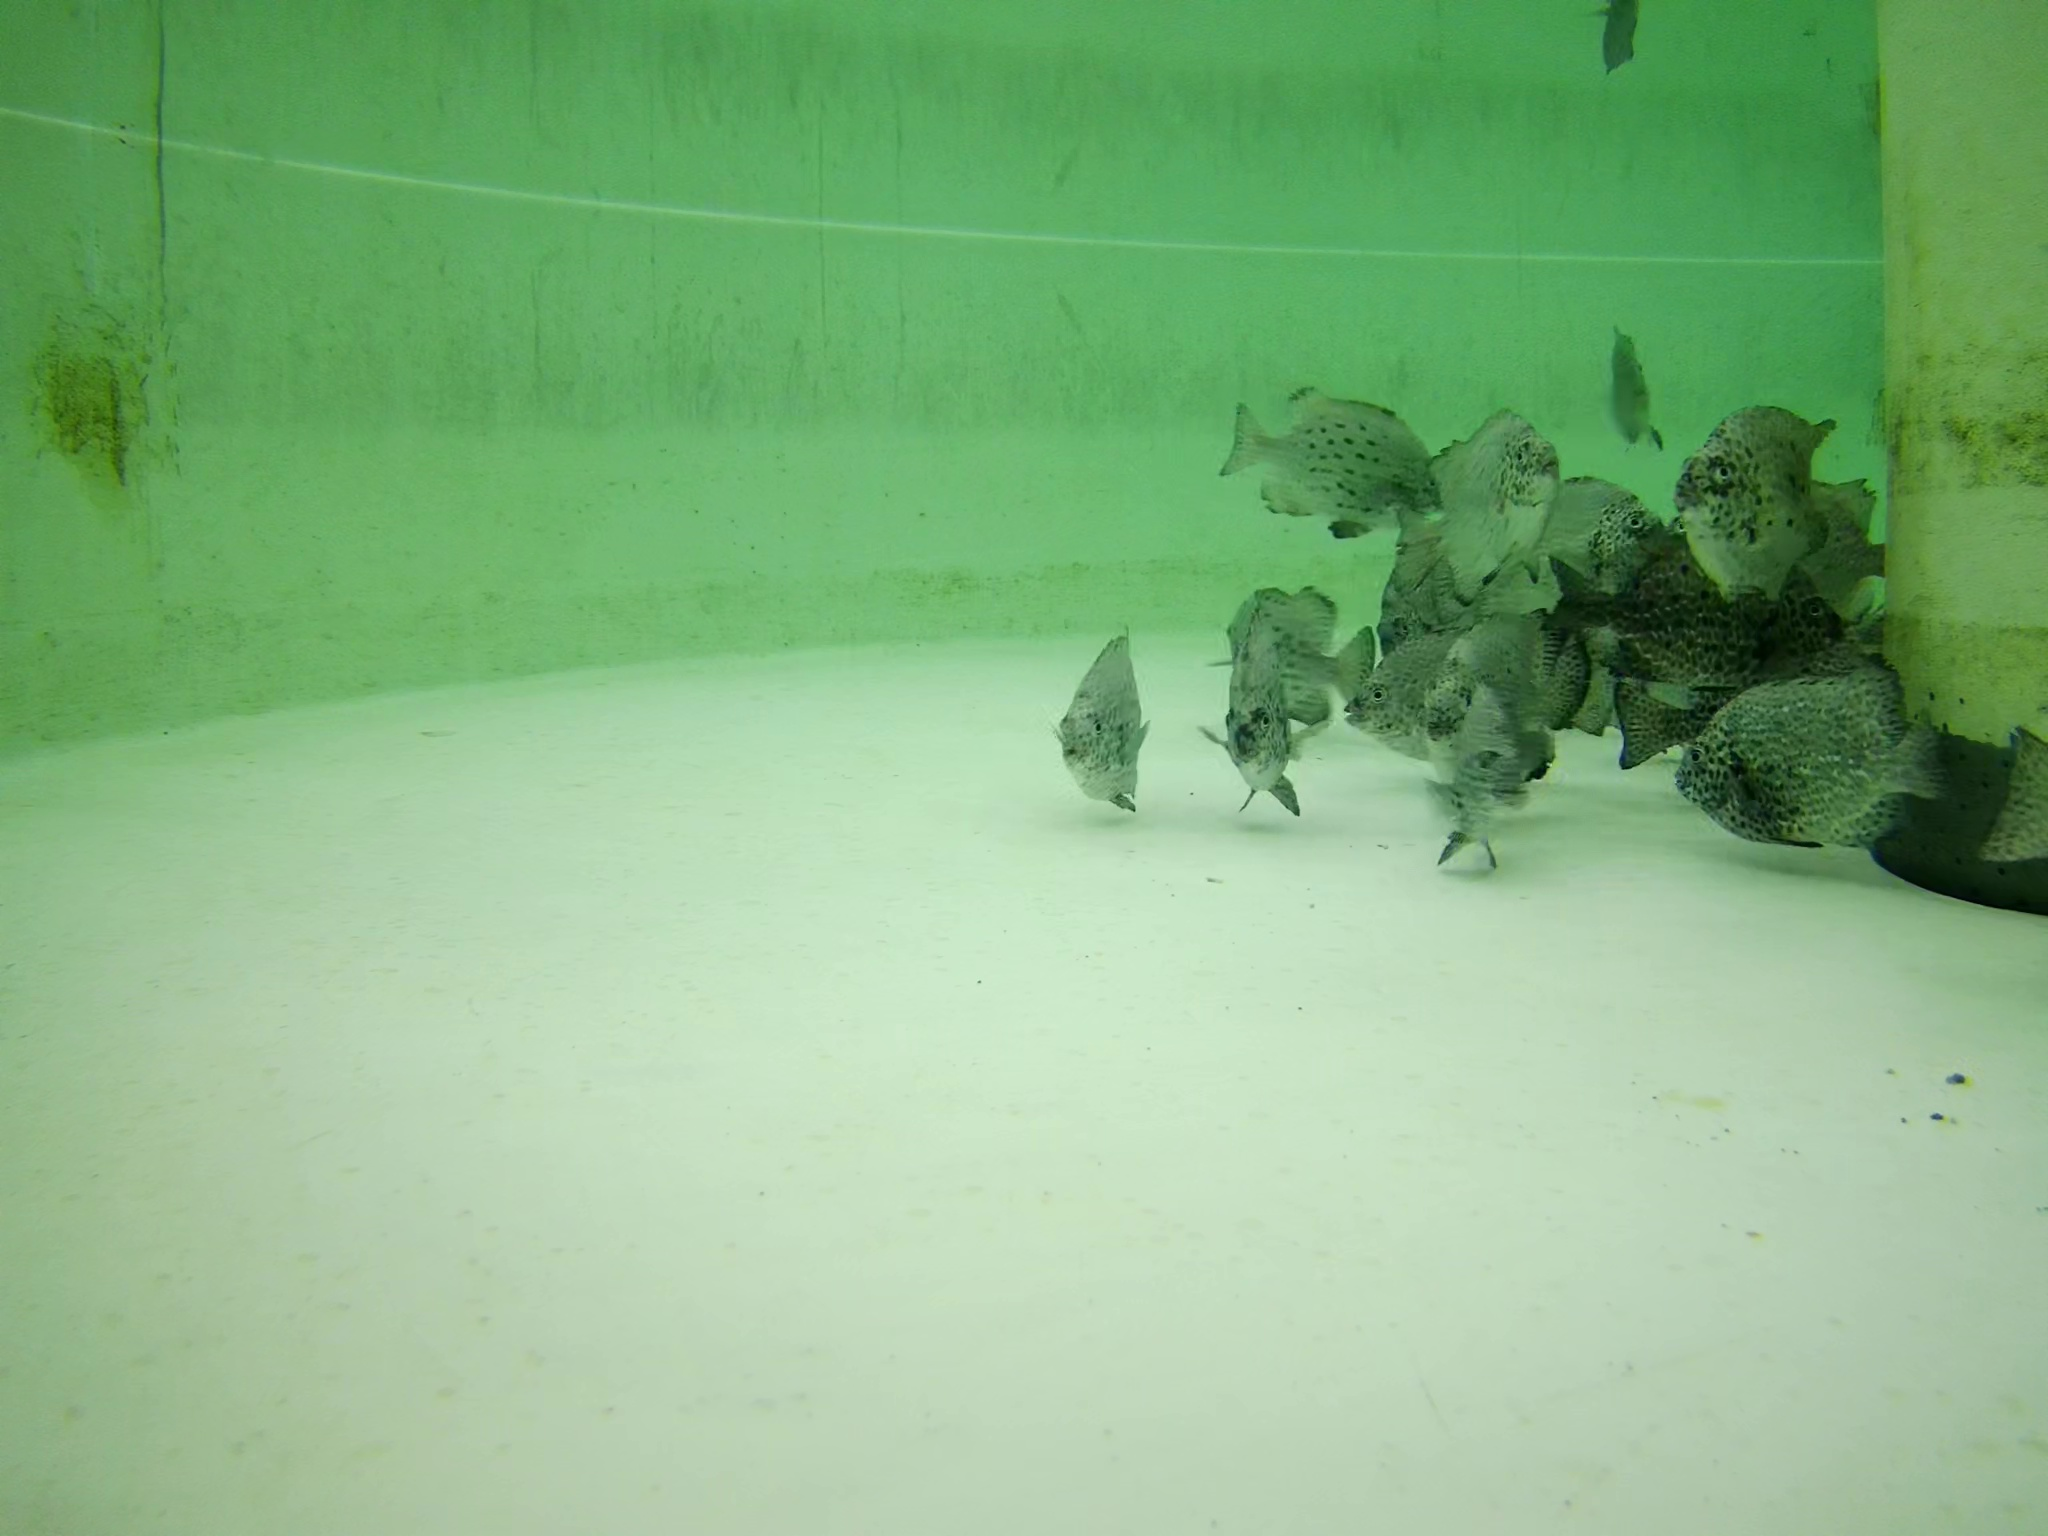fish: (1675, 676, 1950, 850), (1224, 378, 1442, 531), (1537, 516, 1761, 653), (1685, 400, 1830, 576), (1426, 399, 1555, 589), (1438, 624, 1567, 807), (1600, 658, 1817, 760), (1335, 639, 1474, 787), (1242, 574, 1372, 726), (1221, 602, 1306, 818), (1496, 471, 1666, 566), (1780, 466, 1890, 611), (1064, 629, 1150, 808), (1995, 712, 2048, 883), (1605, 318, 1669, 455)
